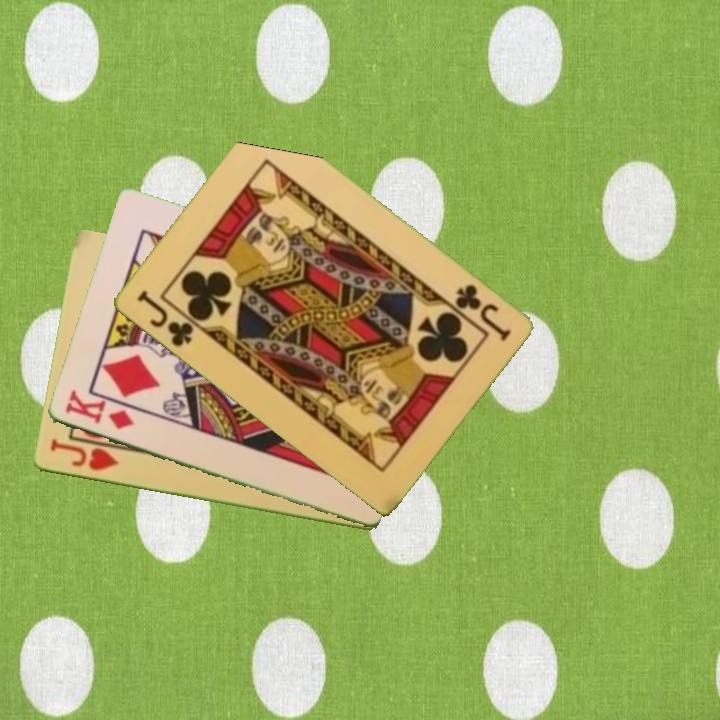Jc: (132, 286, 196, 350), (450, 280, 514, 344)
Jh: (46, 435, 121, 474)
Kd: (61, 389, 137, 433)
